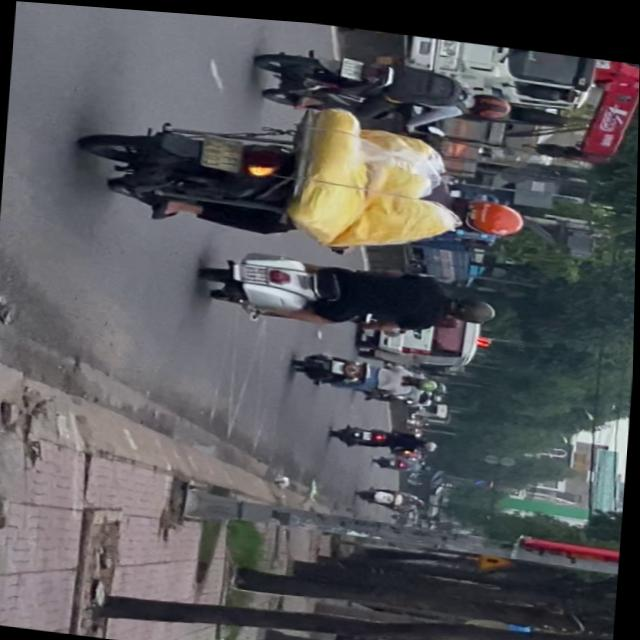helmet: (455, 186, 528, 230), (451, 286, 498, 317), (470, 81, 514, 112)
licenseplate: (75, 78, 537, 265), (197, 236, 503, 344), (252, 35, 517, 131)
nohelmet: (203, 132, 243, 166), (343, 51, 364, 73), (245, 260, 270, 278)
